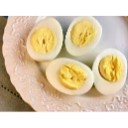begg: (92, 50, 128, 95), (44, 60, 89, 94), (26, 17, 61, 57), (65, 17, 90, 53)
